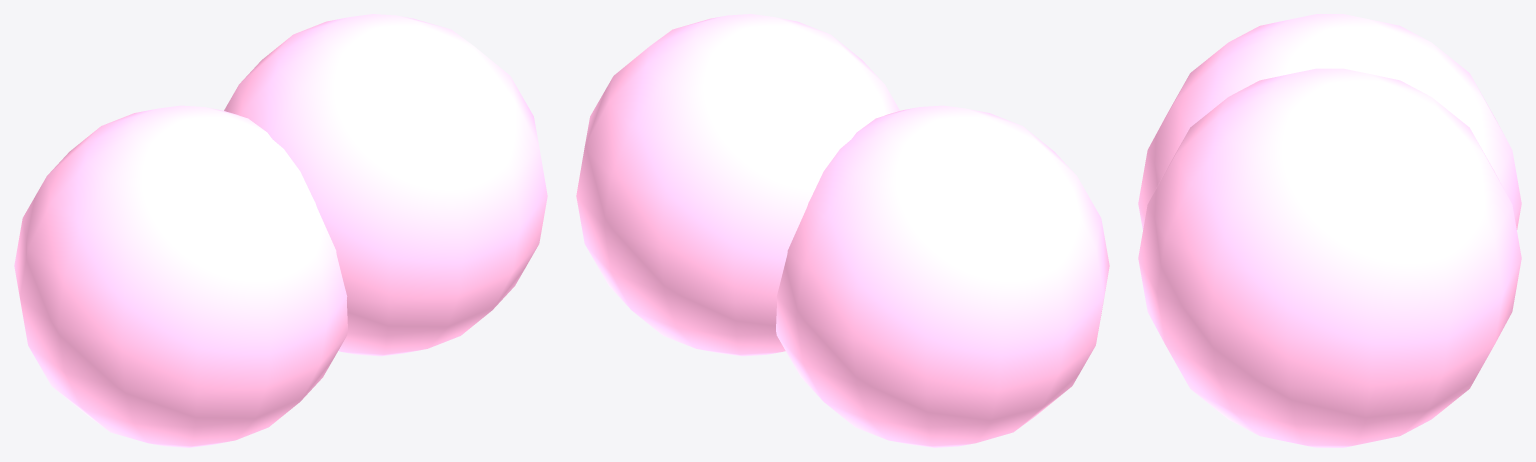
Rendered from nutrient_c.glb.
3 renders of one model, left to right at view 1: azimuth 30°, elevation 25°; view 2: azimuth 150°, elevation 25°; view 3: azimuth 270°, elevation 25°, orthographic. The views are drawn at different scales.
Parts seen in each view (by area): view 1: nutrient_c; view 2: nutrient_c; view 3: nutrient_c.
Boxes of the visible parts, x1=… form: nutrient_c: x1=14, y1=14, x2=547, y2=447; nutrient_c: x1=576, y1=14, x2=1109, y2=447; nutrient_c: x1=1138, y1=14, x2=1521, y2=447.
Size of the model in its own units: 0.906 by 0.64 by 0.56.
